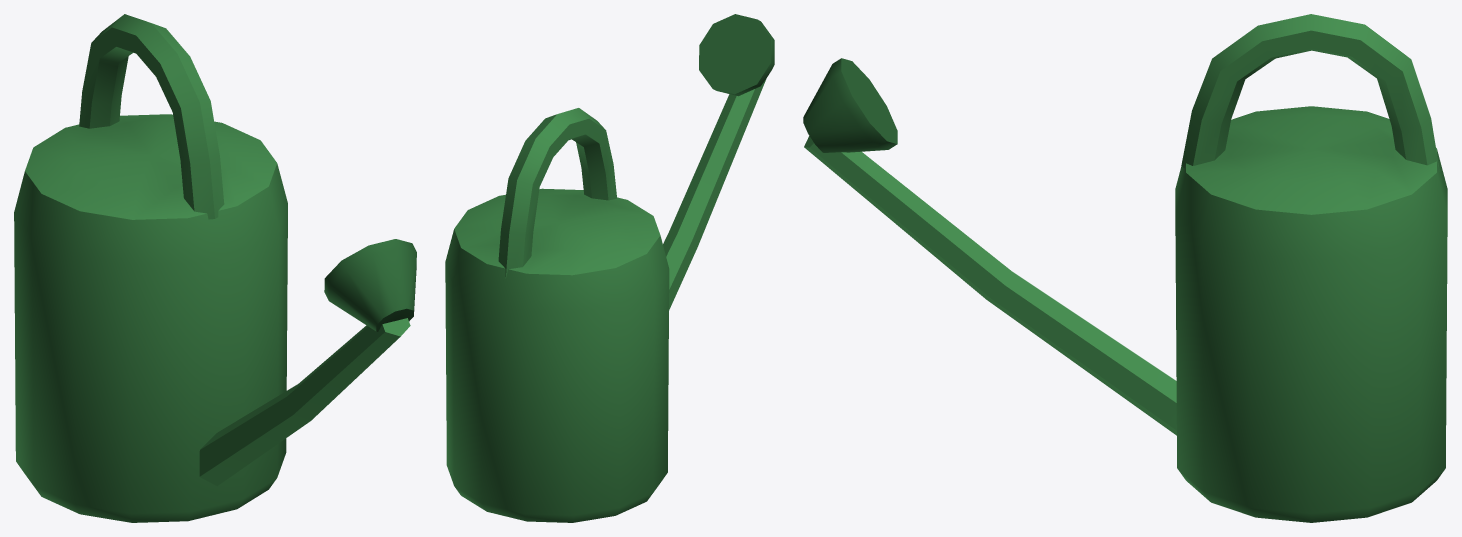
Rendered from wateringCan.glb.
3 renders of one model, left to right at view 1: azimuth 30°, elevation 25°; view 2: azimuth 150°, elevation 25°; view 3: azimuth 270°, elevation 25°, orthographic. The views are drawn at different scales.
Parts seen in each view (by area): view 1: wateringCan; view 2: wateringCan; view 3: wateringCan.
Boxes of the visible parts, box(x1,y1,x2,y2) form: wateringCan: box(14, 14, 416, 522); wateringCan: box(445, 14, 774, 522); wateringCan: box(803, 14, 1447, 522).
Bounding box in the file's own units: 0.152 × 0.273 × 0.3506.
